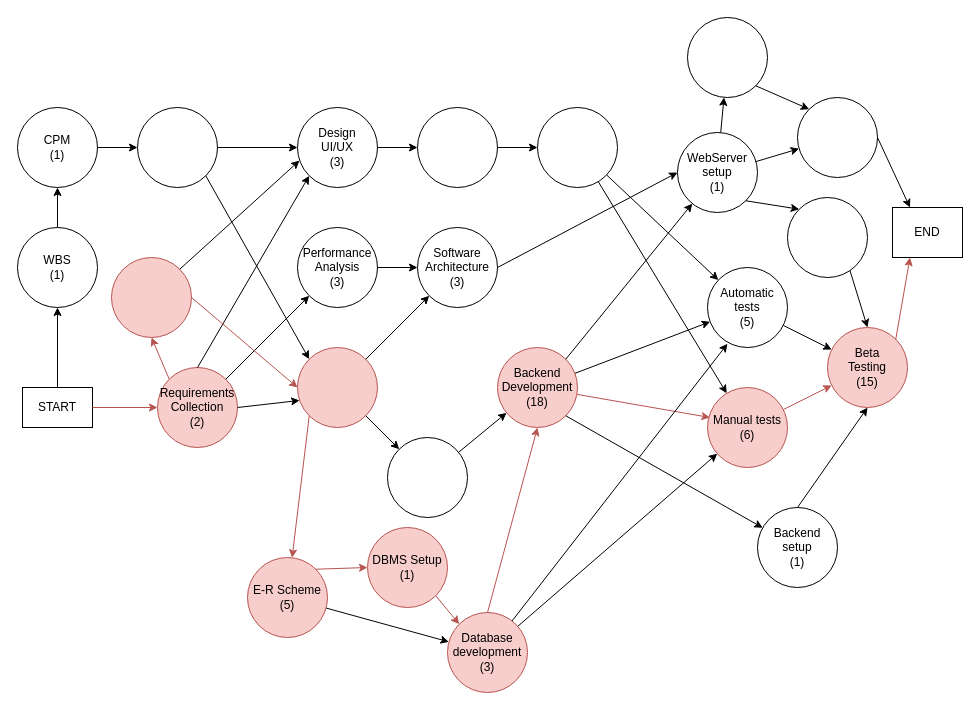
Image size: 980x710. Some labels were removed from this diagram. Here are the shapes that lost their labels. From the top down, the centre of each, then its label:
point (727, 57): DNS setup (1)
point (177, 147): GANTT (1)
point (457, 147): Storyboard (5)
point (577, 147): Frontend development (20)
point (837, 137): Mail Server setup (2)
point (827, 237): Web site setup (1)
point (151, 297): Risk Analysis (2)
point (337, 387): Architectural Document (3)
point (427, 477): UML (1)
